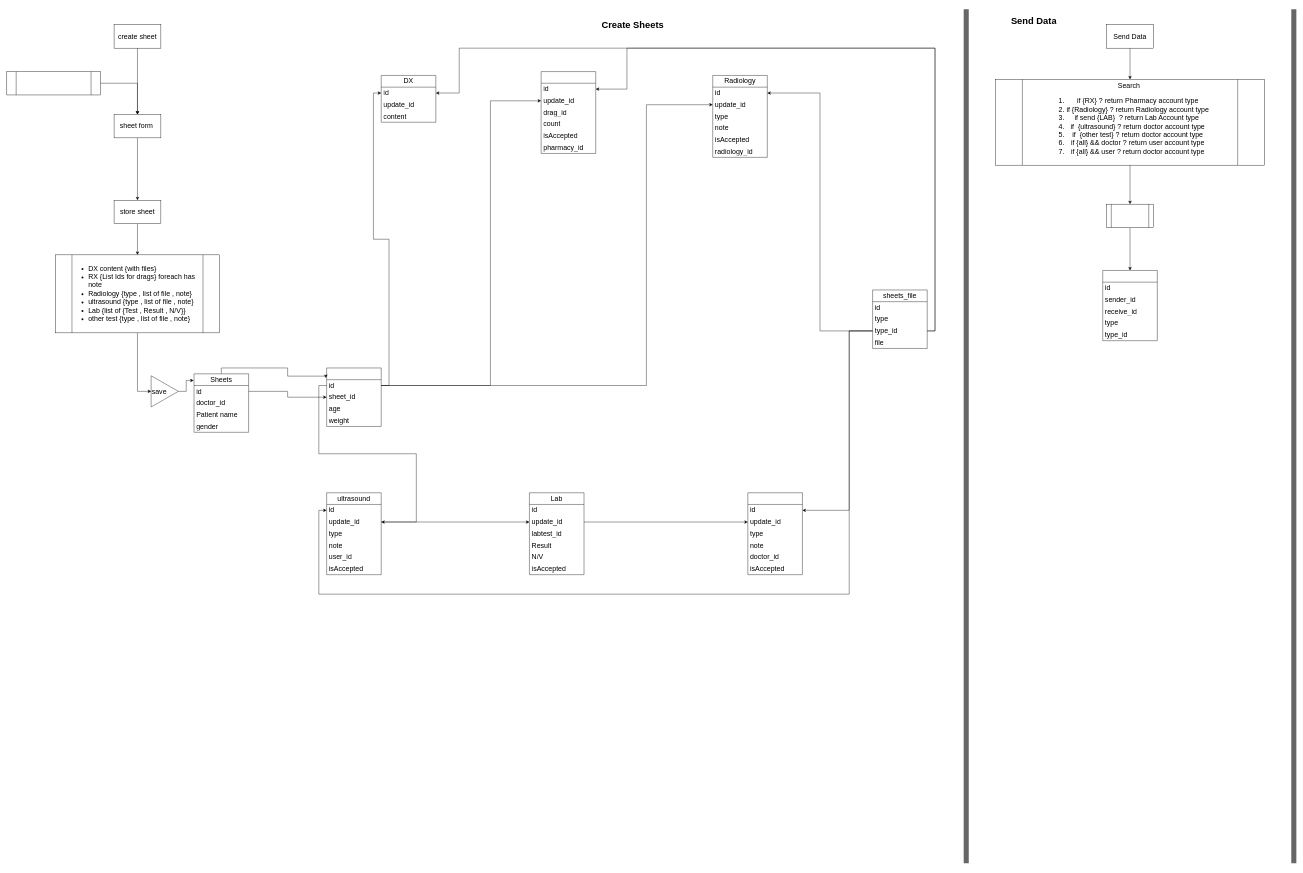
The diagram is 1303 pixels wide and 873 high, and some of its shapes have lost their labels. The shapes that lost their labels are listed below. From the top down, each one's box as (x1, y1, x2, y2) in pixels, then its label:
(6, 71, 100, 95): list of drags list of labtest
(541, 71, 596, 153): RX
(1106, 204, 1153, 228): Send
(1102, 270, 1157, 341): Send Table
(326, 368, 381, 426): updates
(747, 492, 802, 575): other test
